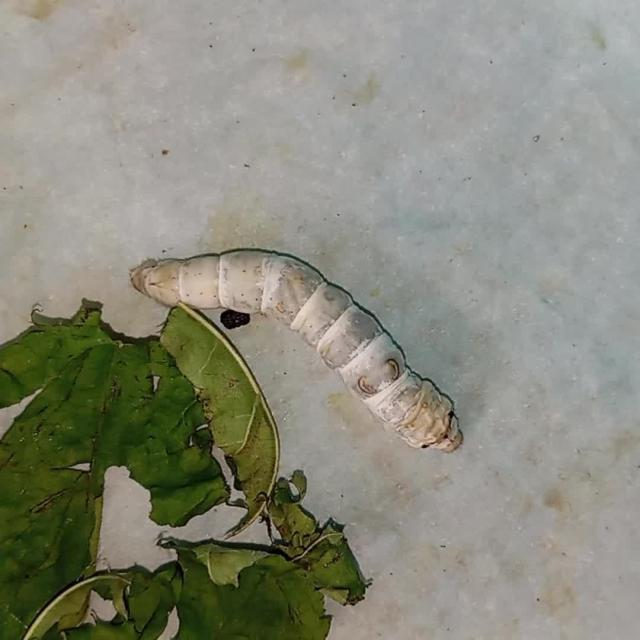Grasserie: (111, 150, 472, 510)
